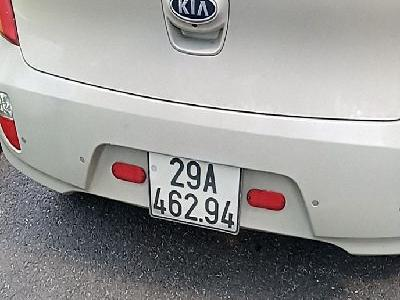lisence: (145, 146, 243, 238)
